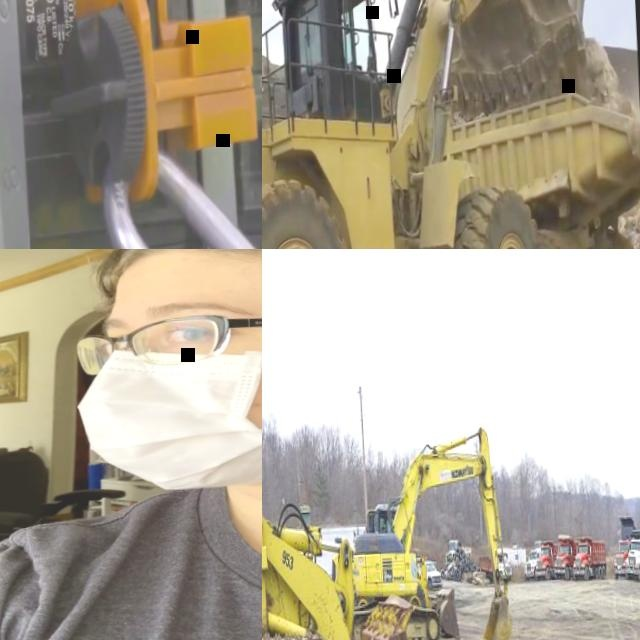Hardhat: (422, 559, 425, 563)
Mask: (72, 333, 262, 501)
NO-Safety Vest: (0, 477, 262, 640)
Person: (0, 249, 262, 640), (420, 559, 430, 599)
Safety Vest: (423, 566, 428, 581)
machinery: (262, 0, 620, 249), (262, 332, 453, 640), (325, 428, 515, 640), (434, 78, 640, 249), (612, 517, 640, 582), (573, 536, 608, 584), (554, 534, 582, 582), (479, 551, 513, 587), (535, 541, 562, 582), (524, 540, 546, 581), (624, 530, 640, 584), (446, 540, 473, 569)
vehicle: (416, 555, 443, 591)
